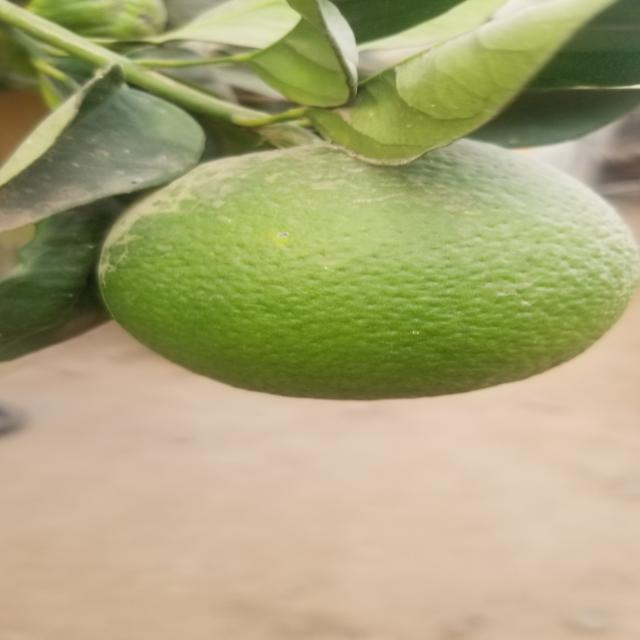Unripe: (72, 135, 633, 405)
